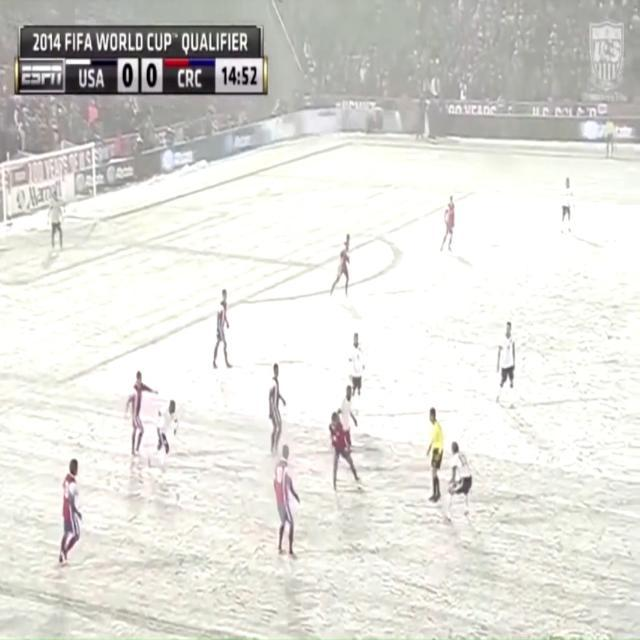ball: (353, 475, 368, 500)
goalkeeper: (46, 186, 70, 269)
player: (267, 436, 312, 560), (55, 441, 82, 572), (259, 352, 289, 461), (491, 318, 523, 420), (325, 411, 359, 500), (150, 398, 185, 484), (126, 363, 156, 460), (211, 282, 237, 379), (329, 210, 355, 305), (446, 442, 474, 528), (346, 327, 368, 410), (438, 197, 462, 270), (558, 175, 578, 248)
referee: (421, 390, 446, 509), (600, 116, 618, 167)
